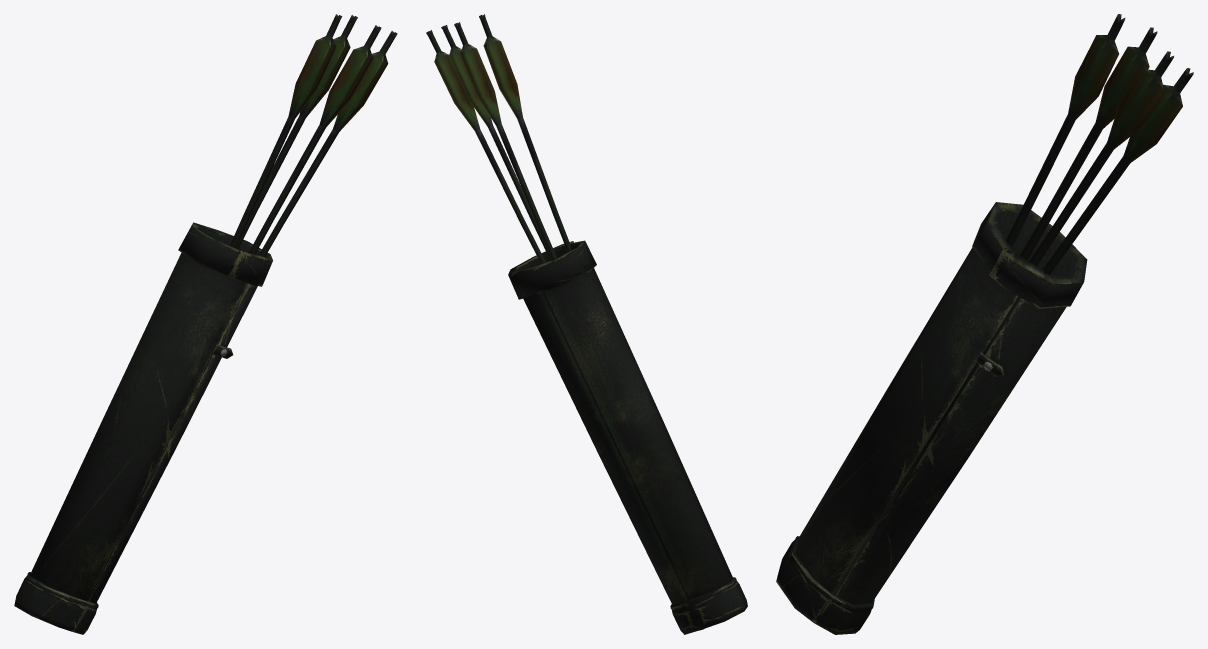
File: Green_Arrow_Quiver.obj
3 renders of one model, left to right at view 1: azimuth 30°, elevation 25°; view 2: azimuth 150°, elevation 25°; view 3: azimuth 330°, elevation 25°, orthographic. The views are drawn at different scales.
Parts seen in each view (by area): view 1: GreenArrowQuiver; view 2: GreenArrowQuiver; view 3: GreenArrowQuiver.
Part boxes in pixels (<box>): GreenArrowQuiver: <box>14,14,397,634</box>; GreenArrowQuiver: <box>426,14,747,634</box>; GreenArrowQuiver: <box>776,14,1193,634</box>.
Bounding box in the file's own units: 0.8497 × 1.3 × 0.1671.
1 material, 1 textured.
